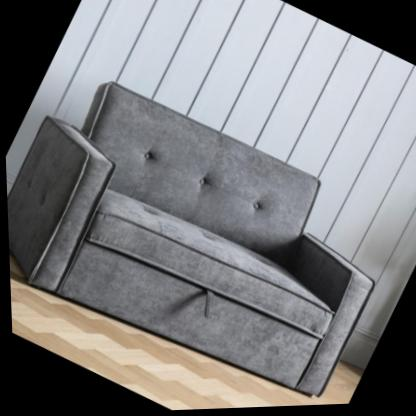Sofa: (2, 50, 411, 416)
